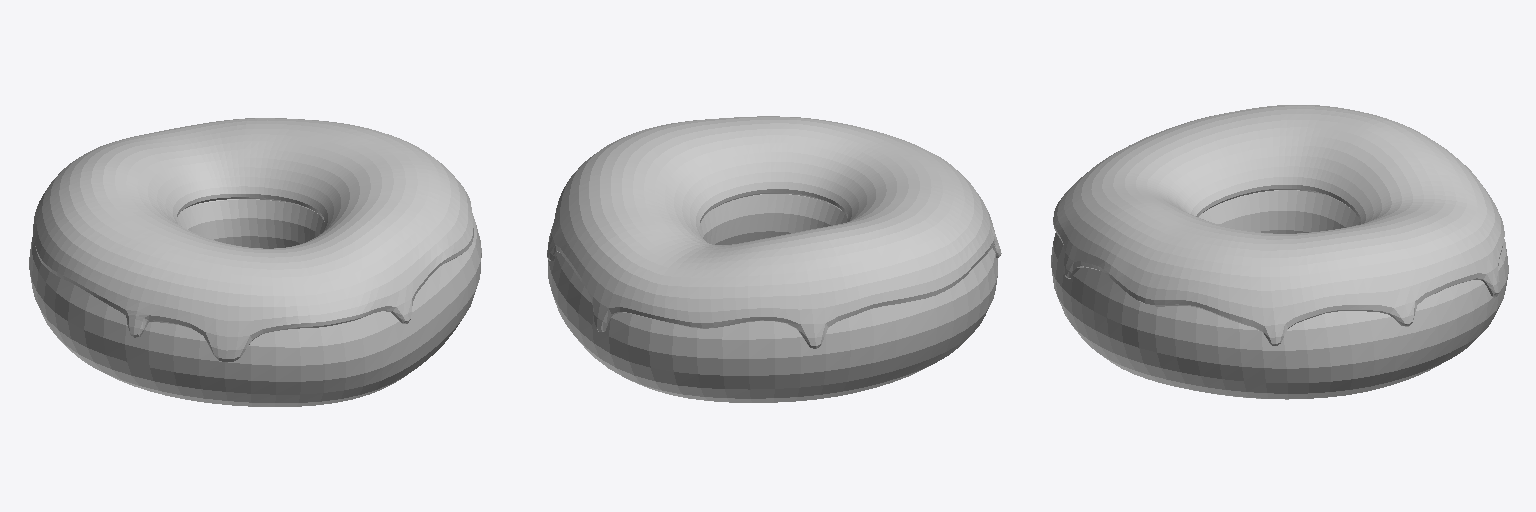
File: donut.obj
The picture shows the model from 3 angles: view 1: azimuth 30°, elevation 25°; view 2: azimuth 150°, elevation 25°; view 3: azimuth 270°, elevation 25°; orthographic projection.
Visible parts, largest first — view 1: Icing_archive_Torus.004, Donut_archive_Torus.003; view 2: Icing_archive_Torus.004, Donut_archive_Torus.003; view 3: Icing_archive_Torus.004, Donut_archive_Torus.003.
Part boxes in pixels (x1,y1,x2,y2): Icing_archive_Torus.004: (33,118,473,361); Donut_archive_Torus.003: (29,199,481,406); Icing_archive_Torus.004: (547,116,1001,348); Donut_archive_Torus.003: (548,194,997,402); Icing_archive_Torus.004: (1053,105,1504,345); Donut_archive_Torus.003: (1051,190,1508,399).
Bounding box in the file's own units: 0.1494 × 0.0573 × 0.1472.